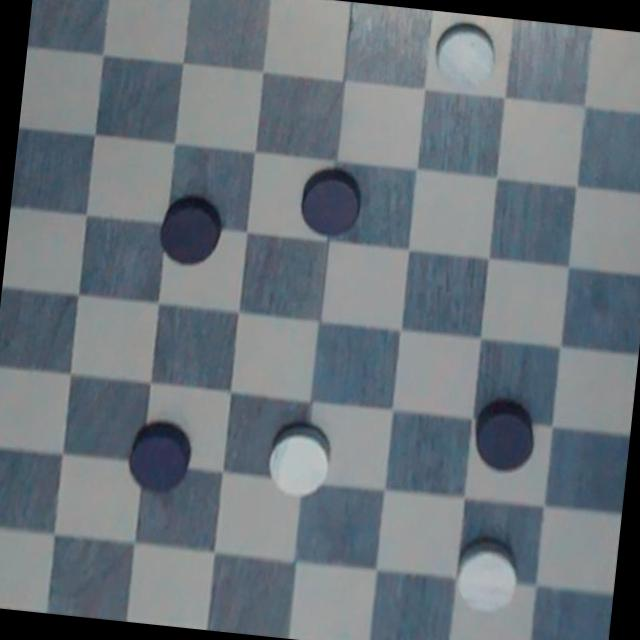BOARD: (0, 0, 640, 640)
black: (111, 408, 208, 508), (146, 183, 238, 274), (286, 154, 370, 248), (469, 392, 542, 482)
white: (258, 413, 341, 508), (422, 13, 510, 92), (449, 534, 529, 619)
